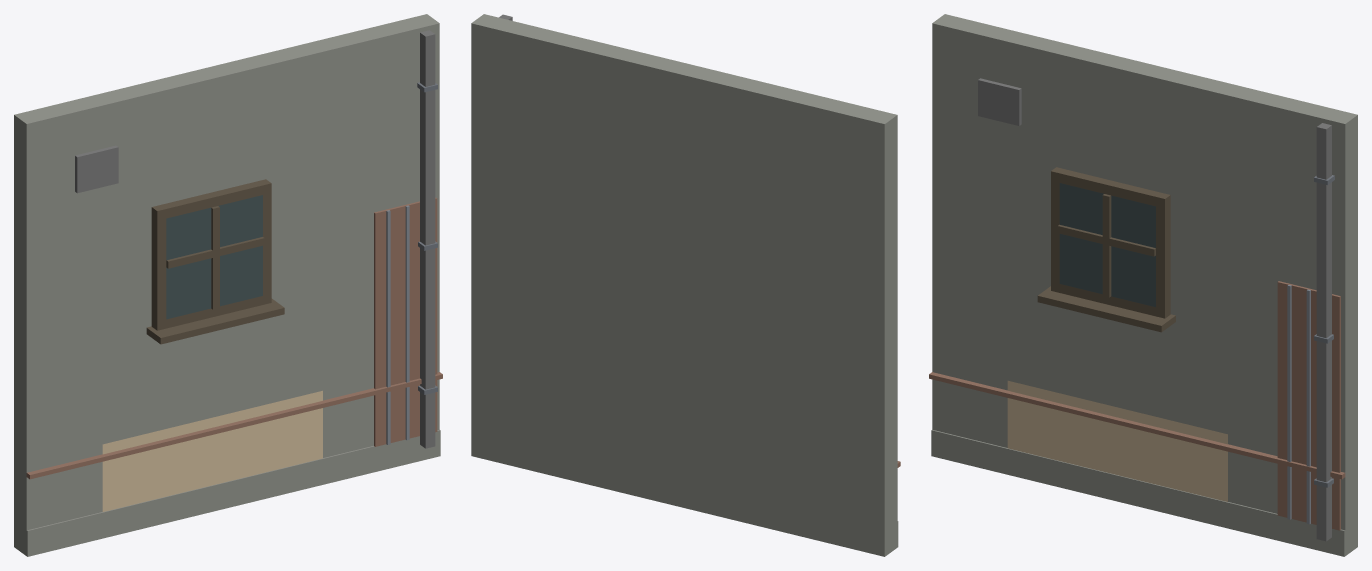
The model's file is base-w1_close.fbx.
The picture shows the model from 3 angles, left to right: view 1: azimuth 30°, elevation 25°; view 2: azimuth 150°, elevation 25°; view 3: azimuth 330°, elevation 25°; orthographic projection.
Parts seen in each view (by area): view 1: a2015/500/base-w1_close; view 2: a2015/500/base-w1_close; view 3: a2015/500/base-w1_close.
Part boxes in pixels (x1,y1,x2,y2): a2015/500/base-w1_close: [14, 14, 442, 556]; a2015/500/base-w1_close: [471, 14, 900, 556]; a2015/500/base-w1_close: [929, 14, 1357, 556].
Size of the model in its own units: 3 by 3 by 0.34.
